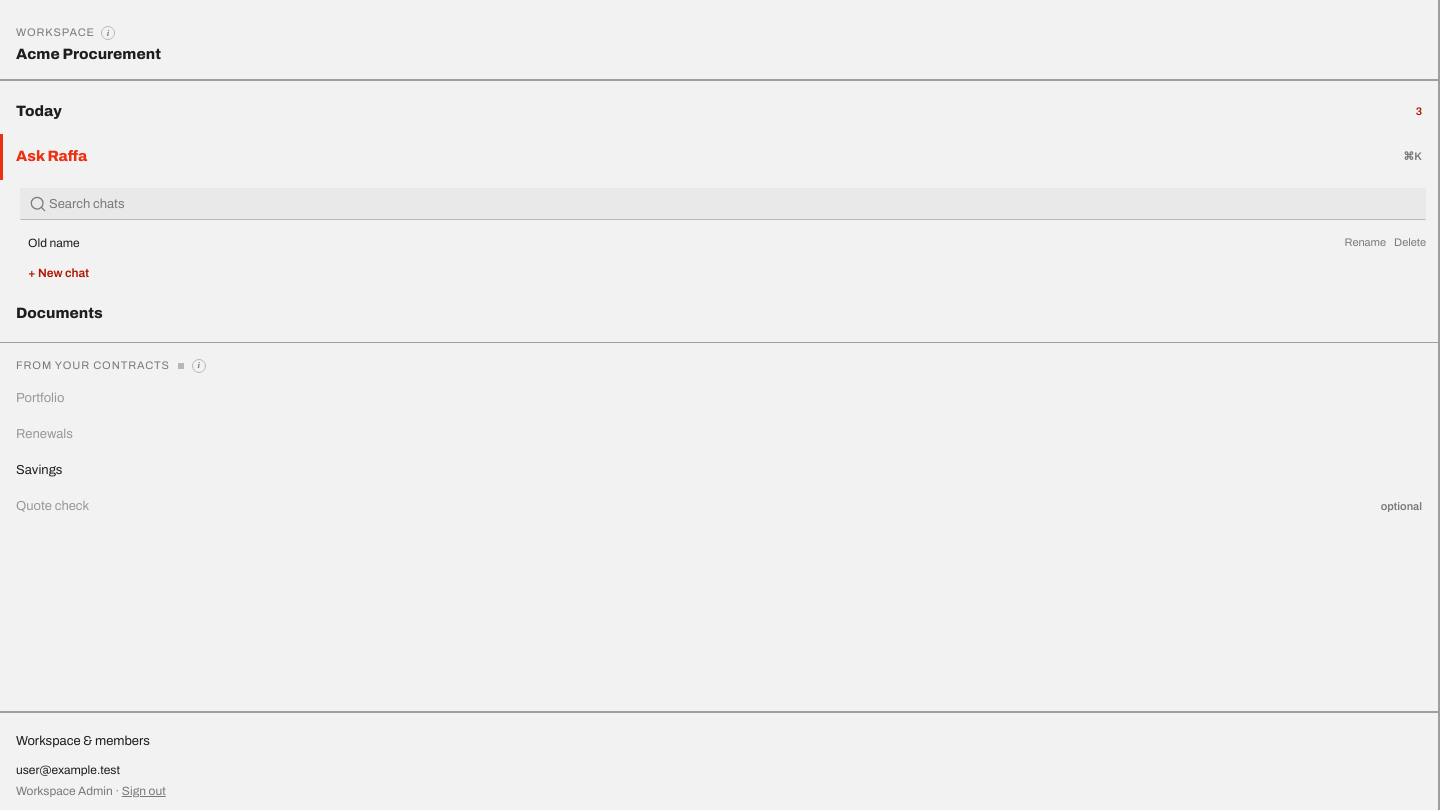
Scenario: RailNav (V2 two-tier rail, ADR-024 amendment; task E13/F09/US01/T01, gap G-IA-V2) › rename a chat › puts the old name back and says so when the server refuses the rename
The width and height of the screenshot is (1440, 810).
Check: the search field labelled "Search chats" is shown, box [20,188,1426,220]
Click the button with aria-label "Rename Old name" at (1365, 243), box [1344,230,1386,255]
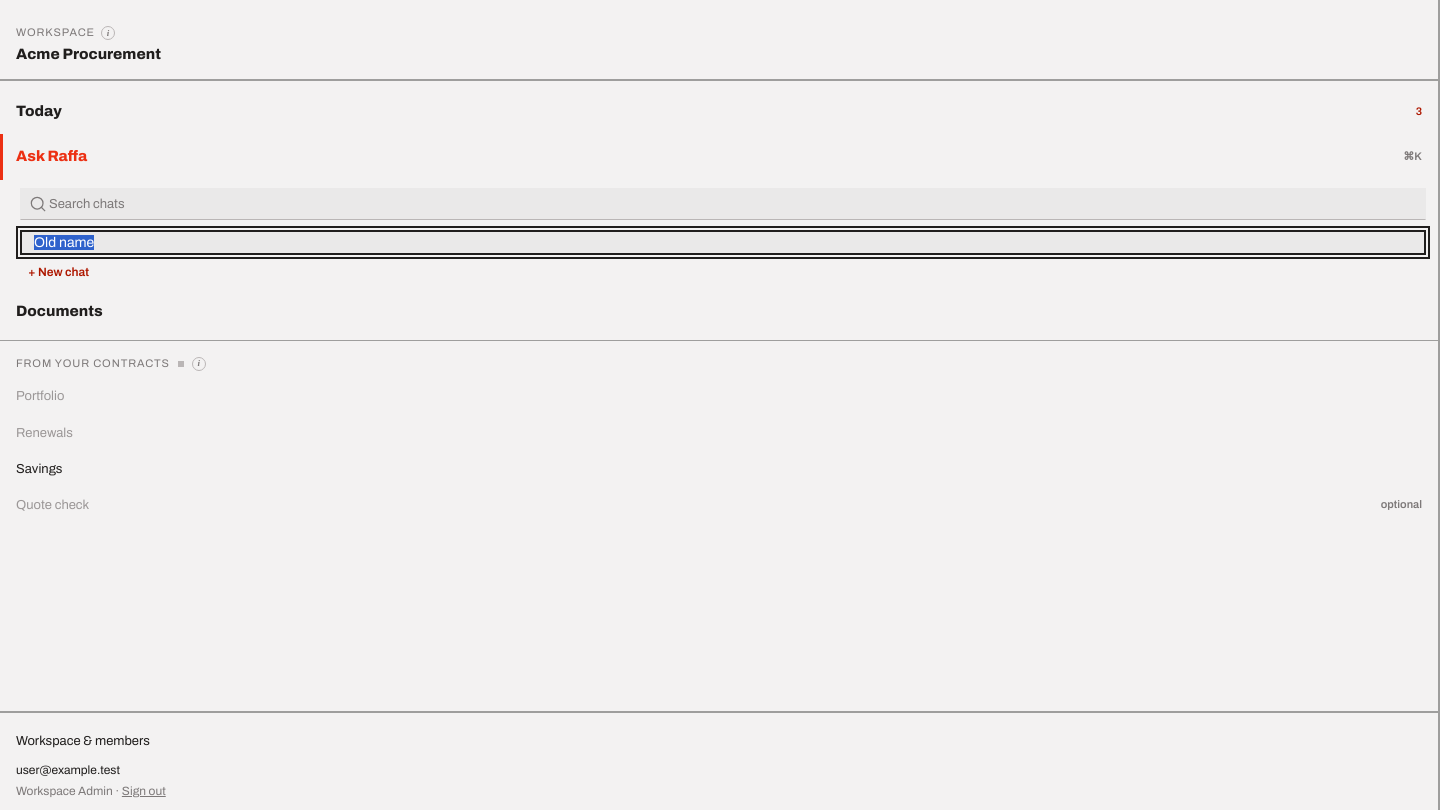
Replace the text in the field named "Rename Old name" with "New name" at (723, 242), box [20,230,1426,254]
Then press Enter
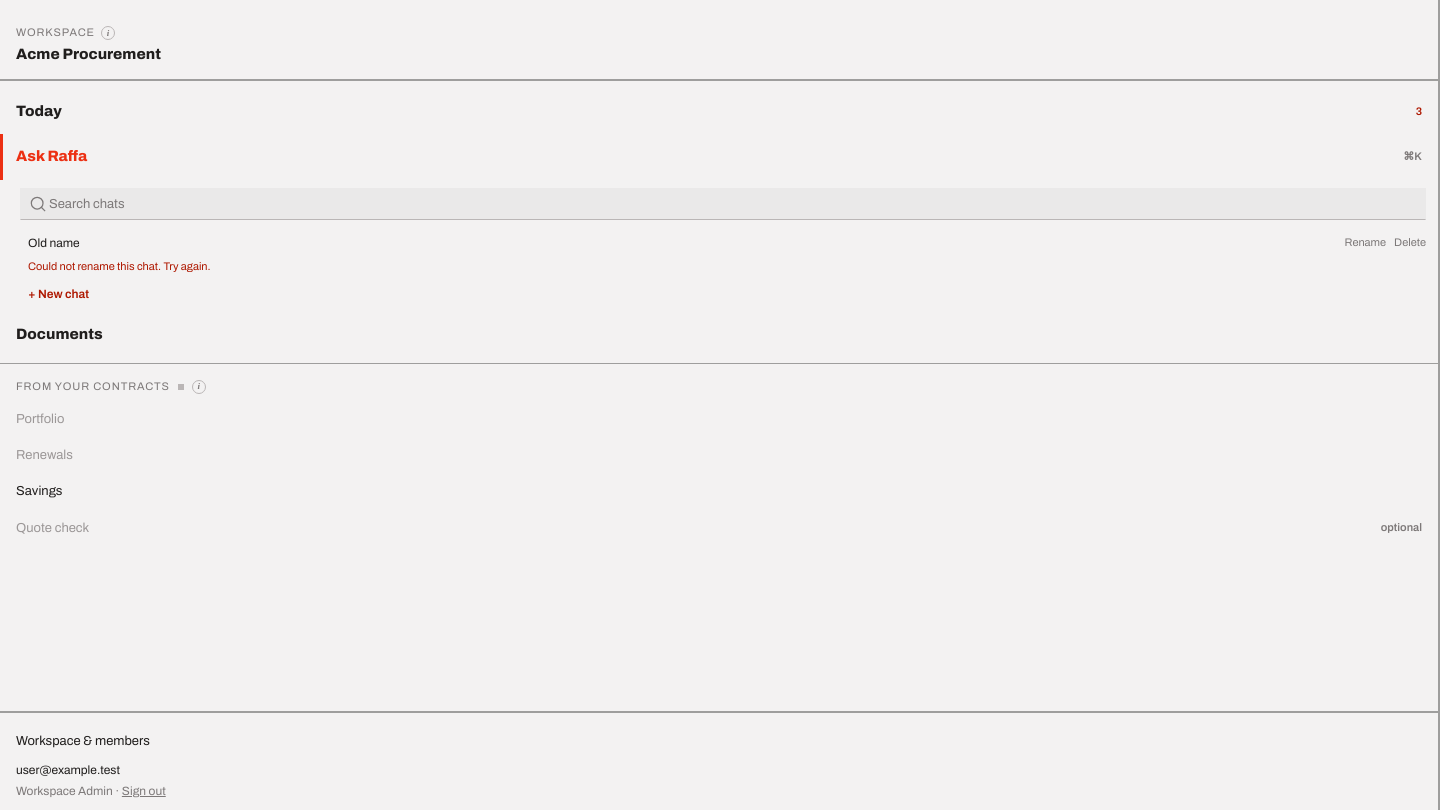
Check: the message reads "Could not rename this chat. Try again.", box [28,260,211,272]
Check: the link "Old name" is shown, box [28,236,80,250]
